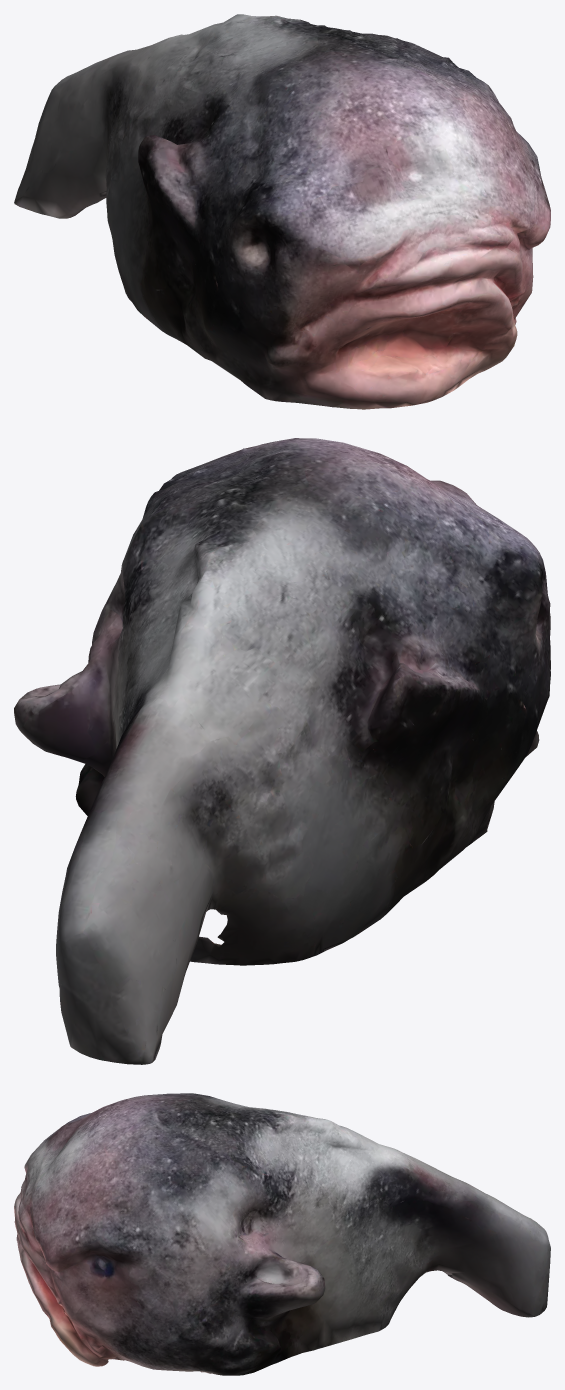
File: blobfish.glb
3 renders of one model, top to bottom at view 1: azimuth 30°, elevation 25°; view 2: azimuth 150°, elevation 25°; view 3: azimuth 270°, elevation 25°, orthographic. The views are drawn at different scales.
Parts seen in each view (by area): view 1: geometry_0; view 2: geometry_0; view 3: geometry_0.
Boxes of the visible parts, x1,y1,x2,y2 form: geometry_0: (14,14,550,409); geometry_0: (14,438,550,1064); geometry_0: (14,1093,550,1375).
Bounding box in the file's own units: 0.5255 × 0.4774 × 1.
Materials: 1 (1 with a texture image).
